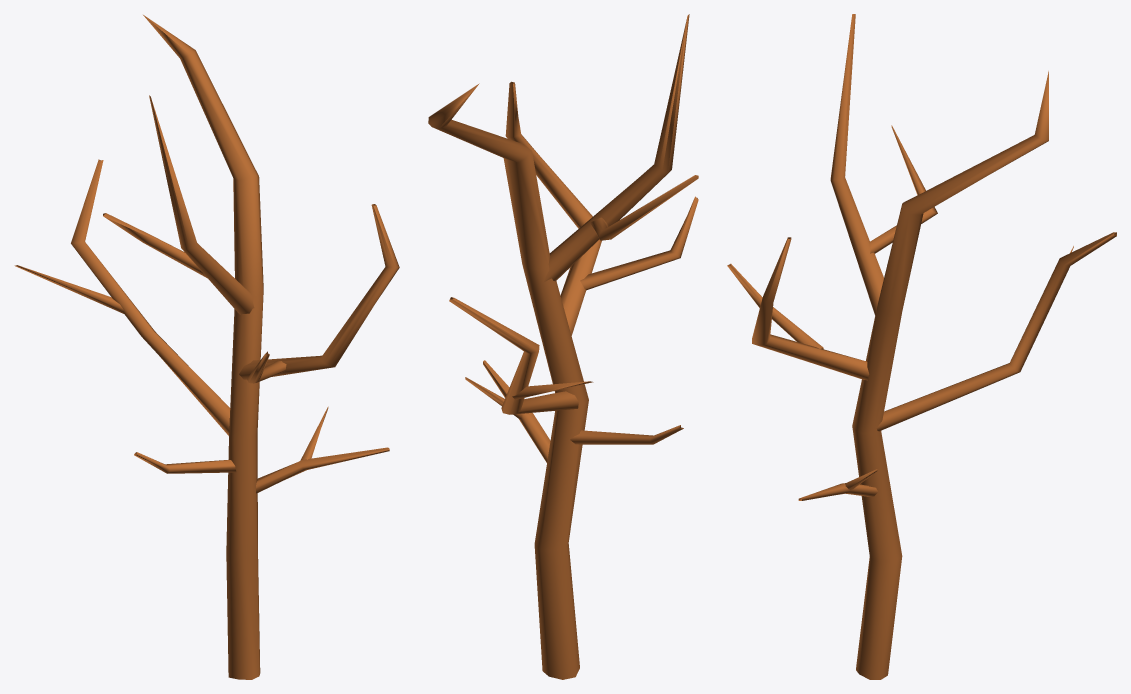
The model's file is treeTrunk5.glb.
3 renders of one model, left to right at view 1: azimuth 30°, elevation 25°; view 2: azimuth 150°, elevation 25°; view 3: azimuth 270°, elevation 25°, orthographic. The views are drawn at different scales.
Parts seen in each view (by area): view 1: treeBody.001; view 2: treeBody.001; view 3: treeBody.001.
Boxes of the visible parts, box(x1,y1,x2,y2) form: treeBody.001: box(14, 15, 399, 679); treeBody.001: box(428, 14, 698, 679); treeBody.001: box(727, 14, 1116, 679).
Size of the model in its own units: 2.12 by 5.17 by 3.
Materials: 1 (1 with a texture image).
